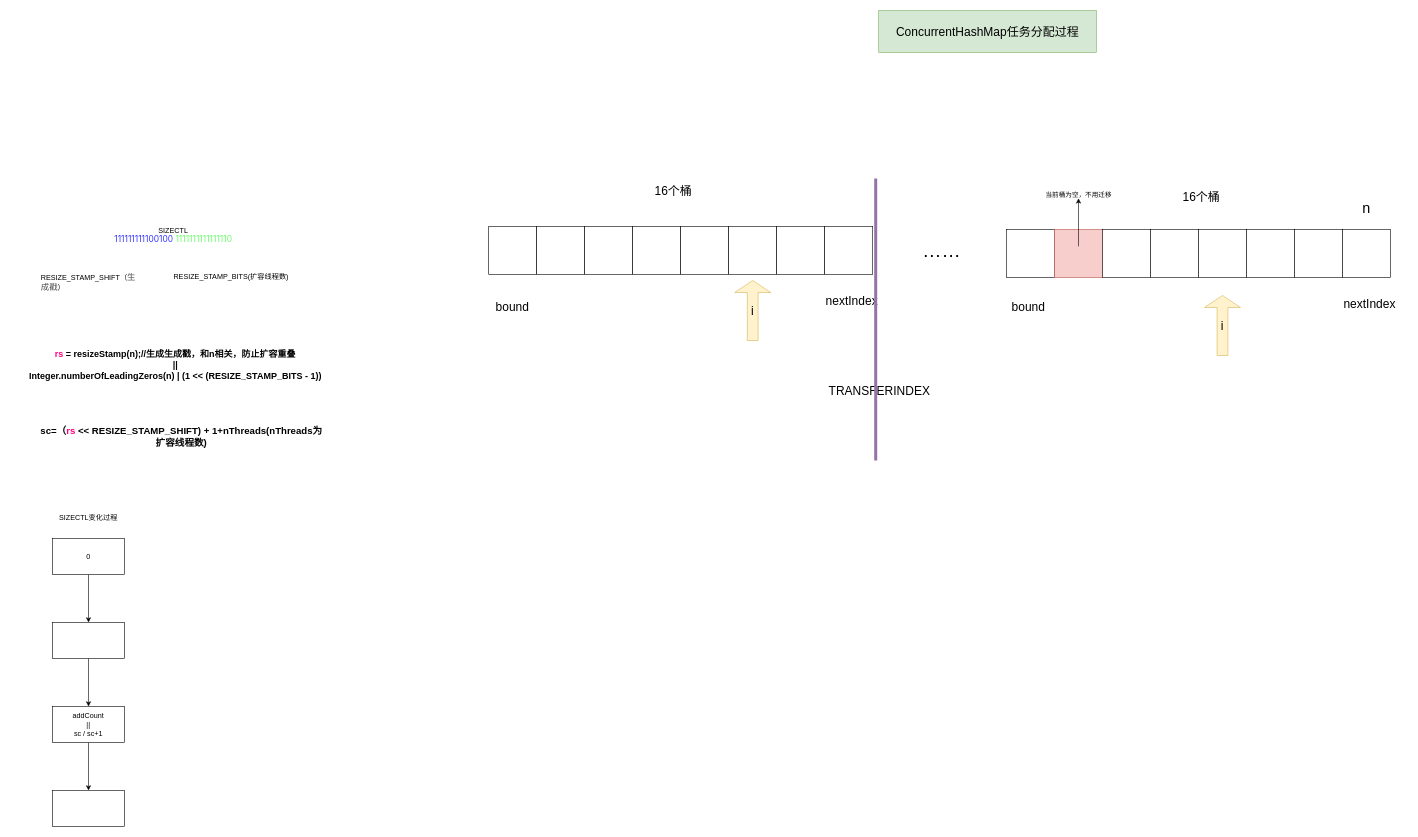
This 1418x837 diagram has some shape labels left out. The centre of each missing label's shape, as x and y in pixels:
ForwardingNode: the point at 1078,253
initTable || -1->12(threshold): the point at 88,640
transfer || sc-1: the point at 88,808
